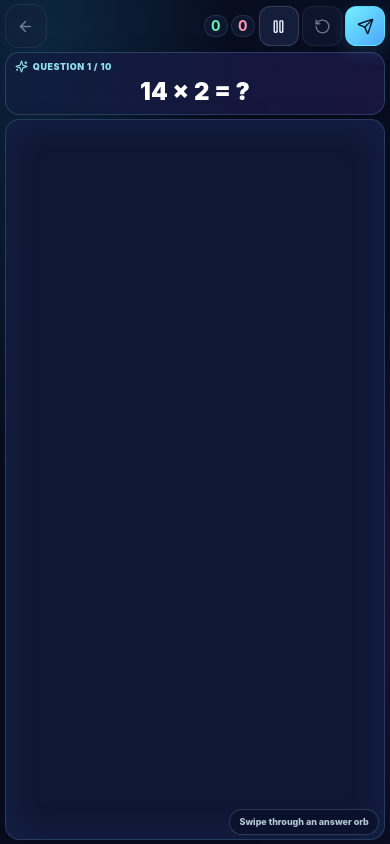
it: Math Slice Ninja › recovers a rejected quiz answer submission
The image size is (390, 844).
Press the mouse on the drawing named "Swipe across an answer orb to slice and submit it": (195, 480) [6,120,384,839]
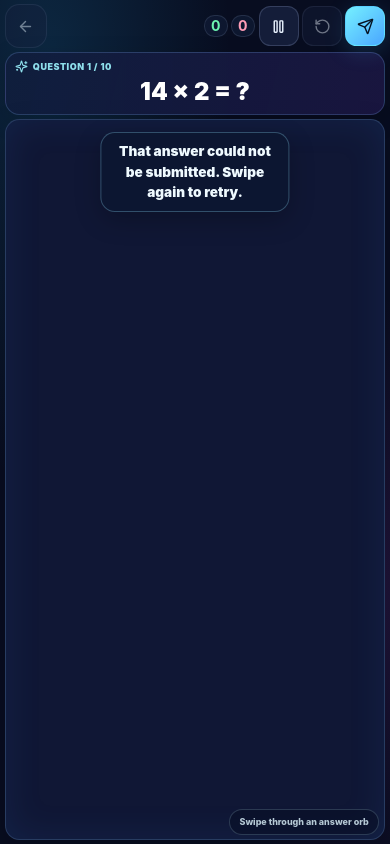
Check: the message shows "could not be submitted", box [119,143,271,200]
